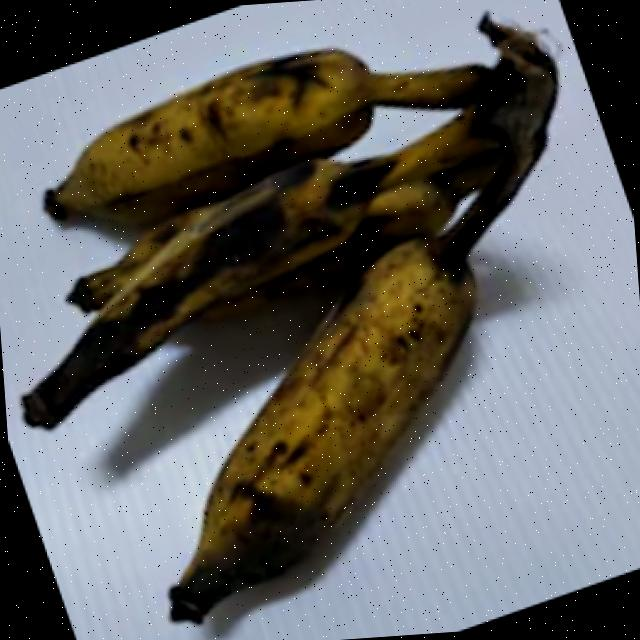rotten banana: (109, 216, 521, 640), (20, 160, 528, 348), (39, 22, 492, 220)
